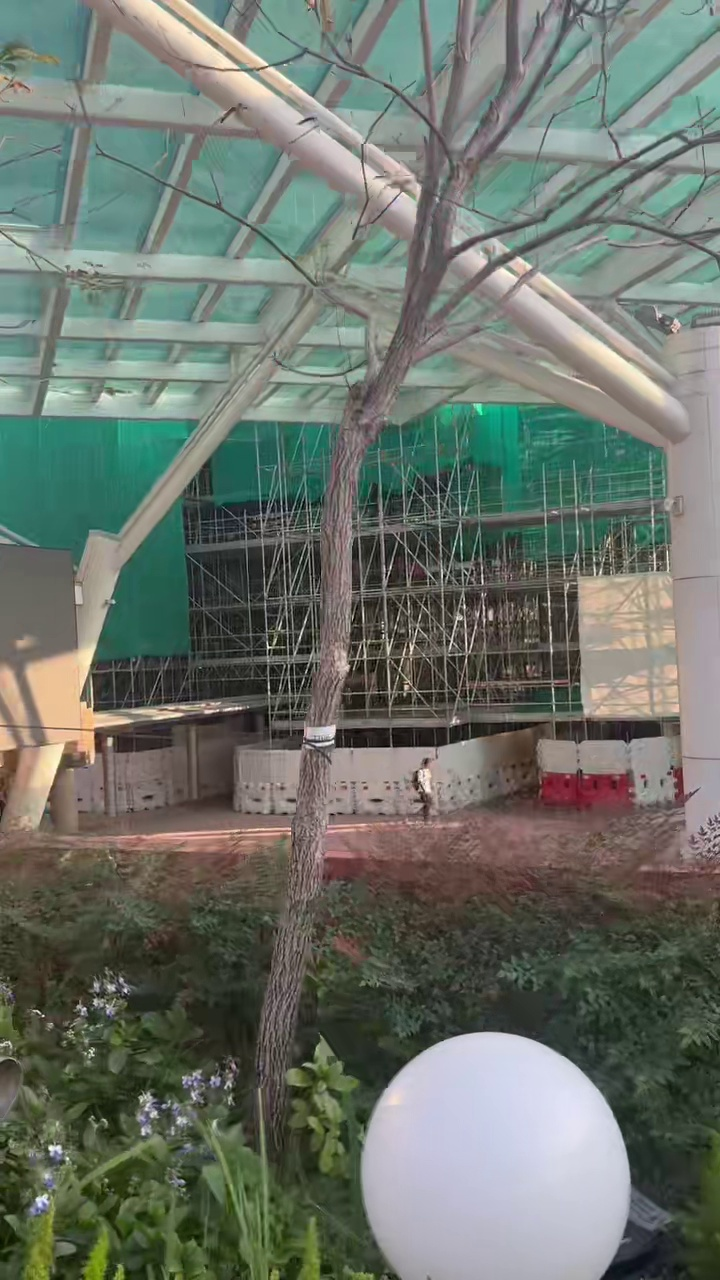Tabebuia chrysantha: (256, 0, 719, 1144)
